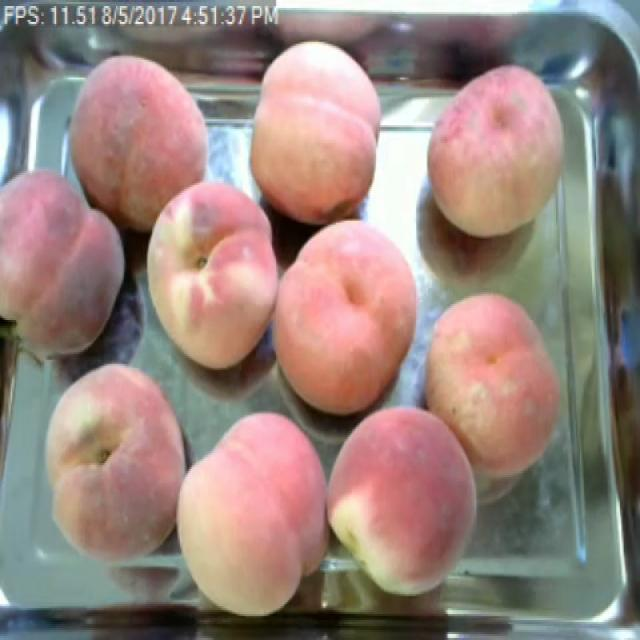Fruit: (22, 348, 202, 578), (167, 400, 345, 630), (319, 398, 488, 608), (52, 40, 224, 246), (264, 211, 429, 425), (131, 165, 289, 386), (415, 282, 576, 483), (416, 52, 580, 248), (239, 28, 393, 230), (0, 159, 140, 374)
